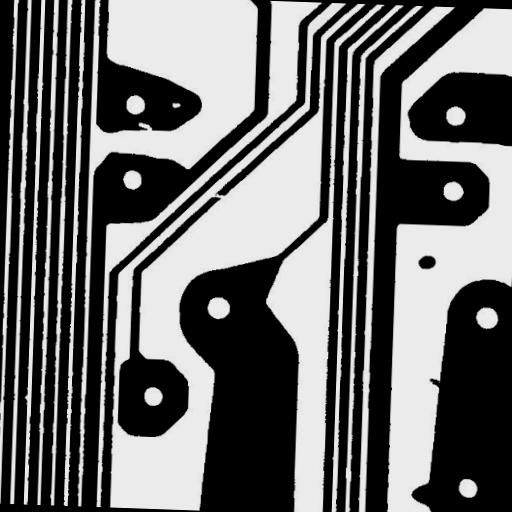copper: (410, 247, 443, 276)
mousebite: (130, 114, 160, 138)
open: (200, 184, 233, 206)
pin-hole: (163, 94, 188, 115)
spur: (420, 370, 454, 400)
